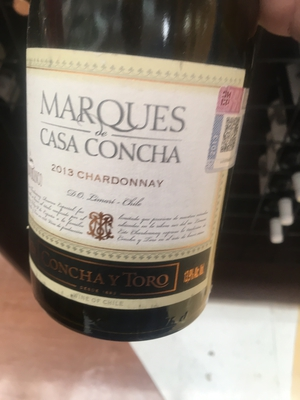marques de casa concha chardonnay: (22, 18, 251, 337)
